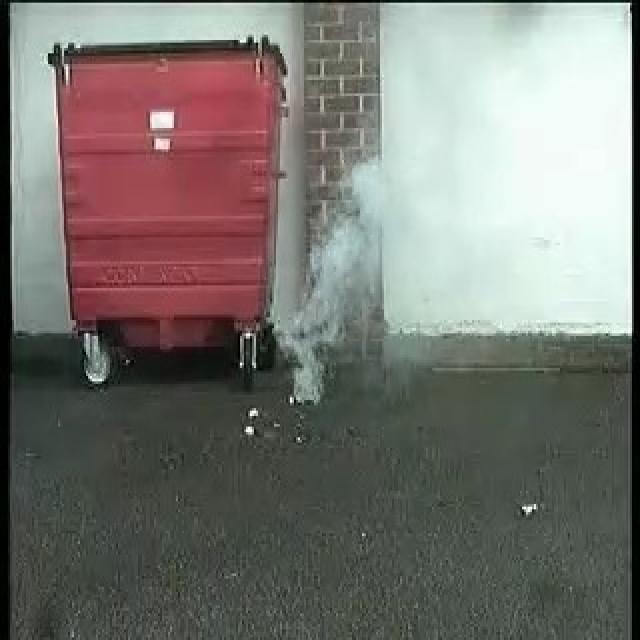smoke: (283, 156, 391, 403)
